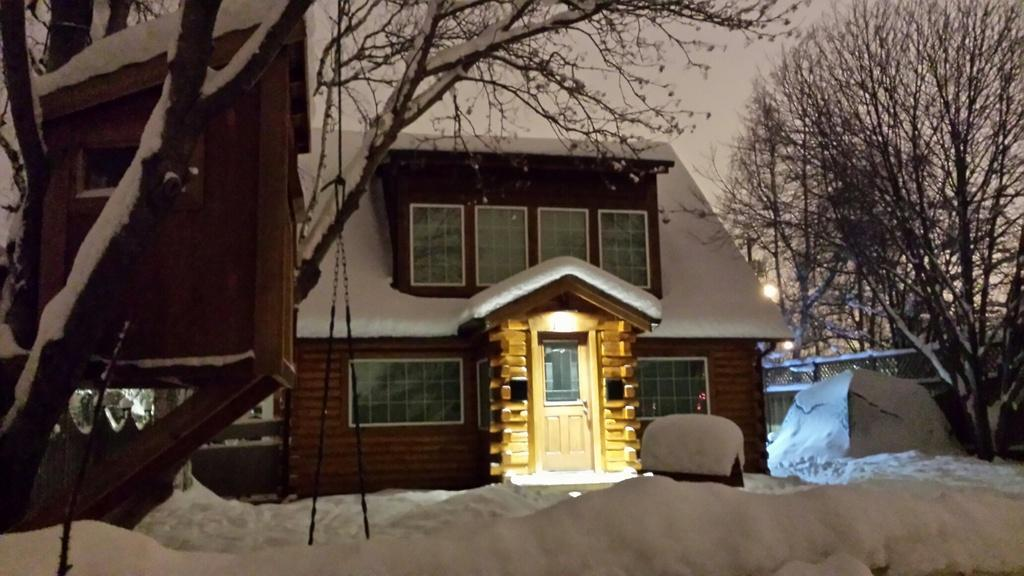door: (534, 319, 600, 465)
handle: (576, 396, 590, 416)
